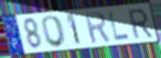1: (66, 12, 82, 48)
8: (22, 16, 43, 50)
L: (107, 10, 130, 42)
O: (41, 14, 68, 49)
R: (83, 11, 112, 45), (127, 7, 154, 40)
